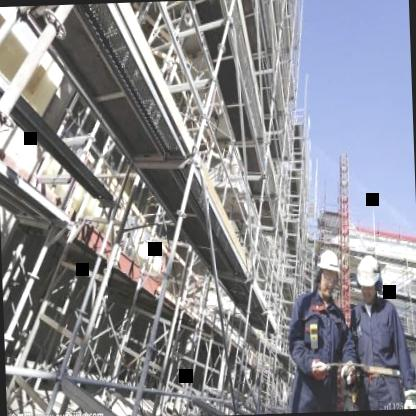helmet: (314, 245, 342, 296), (356, 252, 384, 300)
